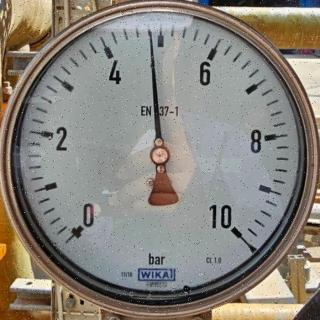gauge: (0, 0, 320, 320), (60, 210, 96, 246), (216, 214, 250, 246), (149, 146, 171, 166), (144, 27, 156, 41)
